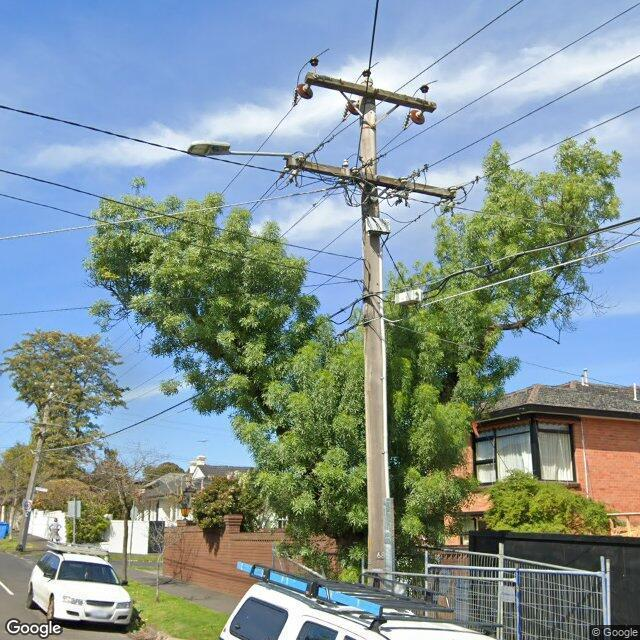HV-transmission: (292, 58, 429, 131)
crossarm: (286, 158, 456, 199), (304, 72, 436, 112), (24, 420, 62, 428)
streetlight: (187, 140, 293, 158)
timber-pole: (359, 79, 395, 594), (18, 382, 54, 552)
